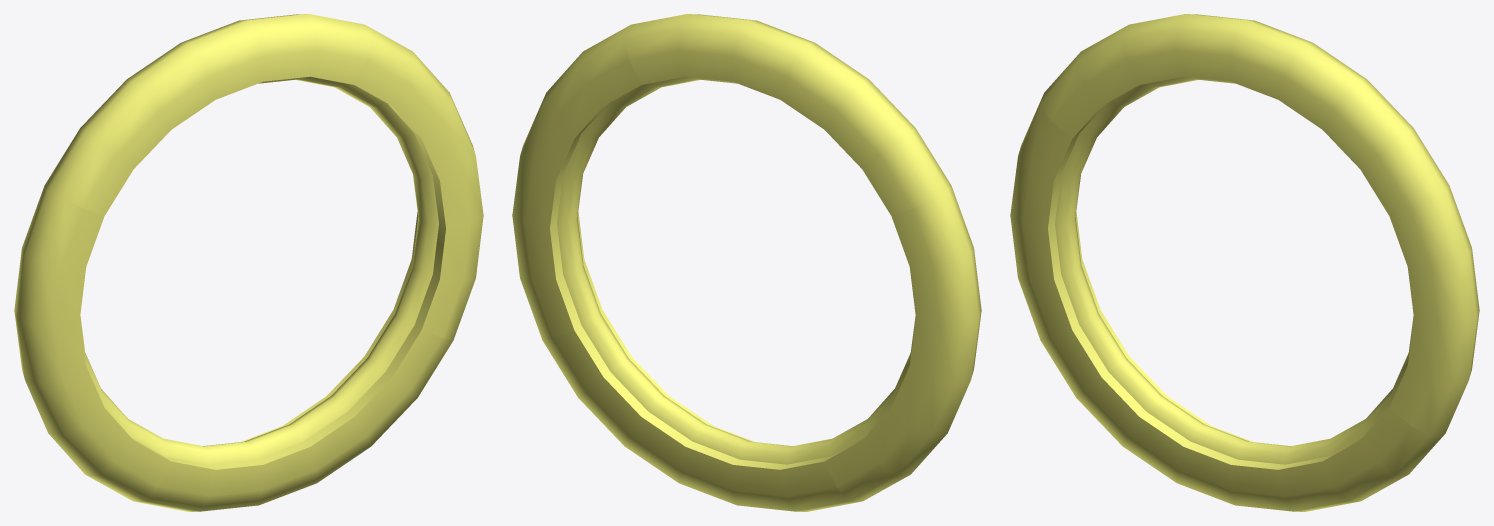
3 views of the same model, side by side, from view 1: azimuth 30°, elevation 25°; view 2: azimuth 150°, elevation 25°; view 3: azimuth 330°, elevation 25° (orthographic).
Parts seen in each view (by area): view 1: 2815.dat; view 2: 2815.dat; view 3: 2815.dat.
Part boxes in pixels (<box>): 2815.dat: <box>14,14,483,511</box>; 2815.dat: <box>512,14,981,511</box>; 2815.dat: <box>1010,14,1479,511</box>.
Bounding box in the file's own units: 0.0304 × 0.0304 × 0.0032.
